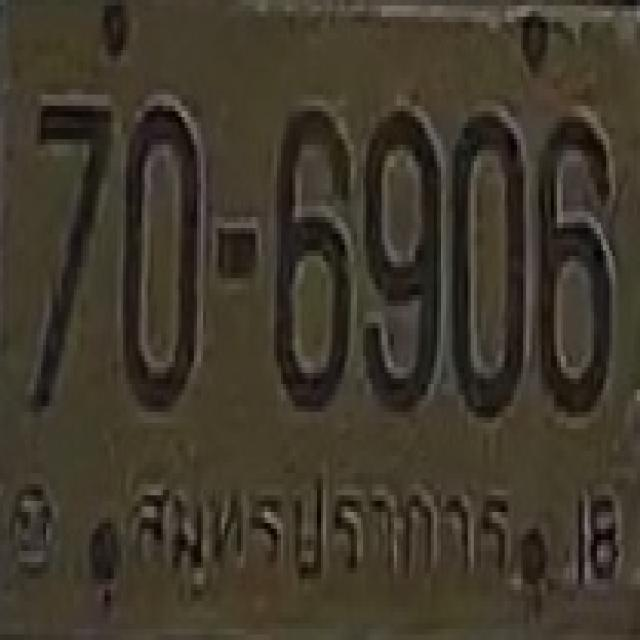0: (122, 100, 198, 406), (449, 111, 523, 418)
6: (272, 103, 350, 409), (536, 111, 612, 412)
7: (31, 100, 111, 412)
9: (362, 106, 438, 412)
SPK: (124, 458, 519, 614)
